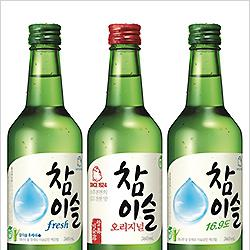soju: (5, 22, 245, 250)
